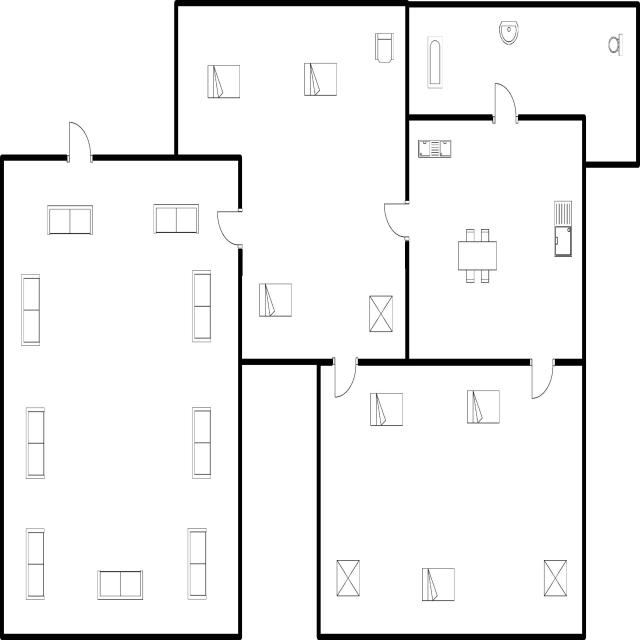armchair: (372, 29, 398, 70)
bed: (419, 562, 460, 607), (367, 387, 406, 431), (256, 278, 296, 320), (464, 385, 503, 428), (205, 60, 242, 103), (302, 58, 338, 101)
coffee_table: (366, 292, 396, 338), (540, 554, 570, 600), (332, 556, 363, 600)
dining_table: (454, 224, 500, 289)
large_sink: (605, 29, 625, 64)
large_sofa: (22, 522, 49, 604), (188, 265, 214, 348), (93, 564, 146, 604), (18, 268, 43, 352), (23, 402, 48, 485), (189, 402, 214, 484), (185, 520, 210, 602), (44, 200, 95, 240), (151, 199, 201, 237)
sink: (551, 195, 576, 264)
small_sink: (495, 14, 521, 49)
tub: (424, 31, 446, 93)
twin_sink: (414, 134, 456, 164)
